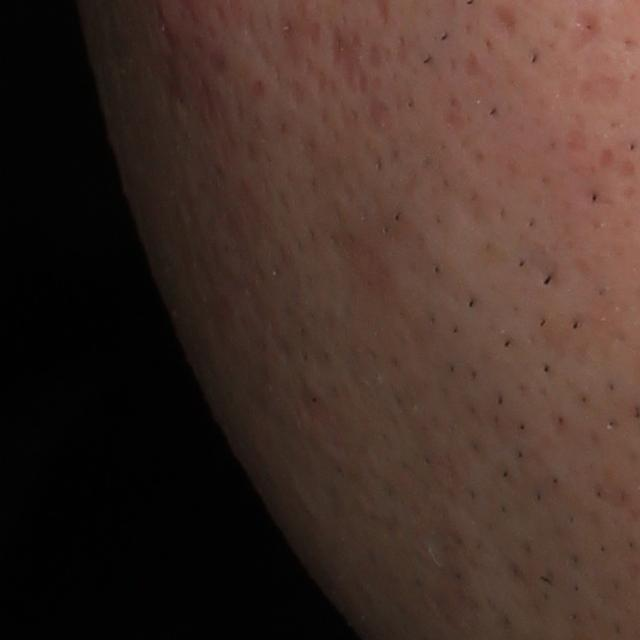atrophic_scar: (577, 68, 625, 108), (562, 8, 601, 55), (332, 29, 360, 90), (489, 5, 516, 39)
